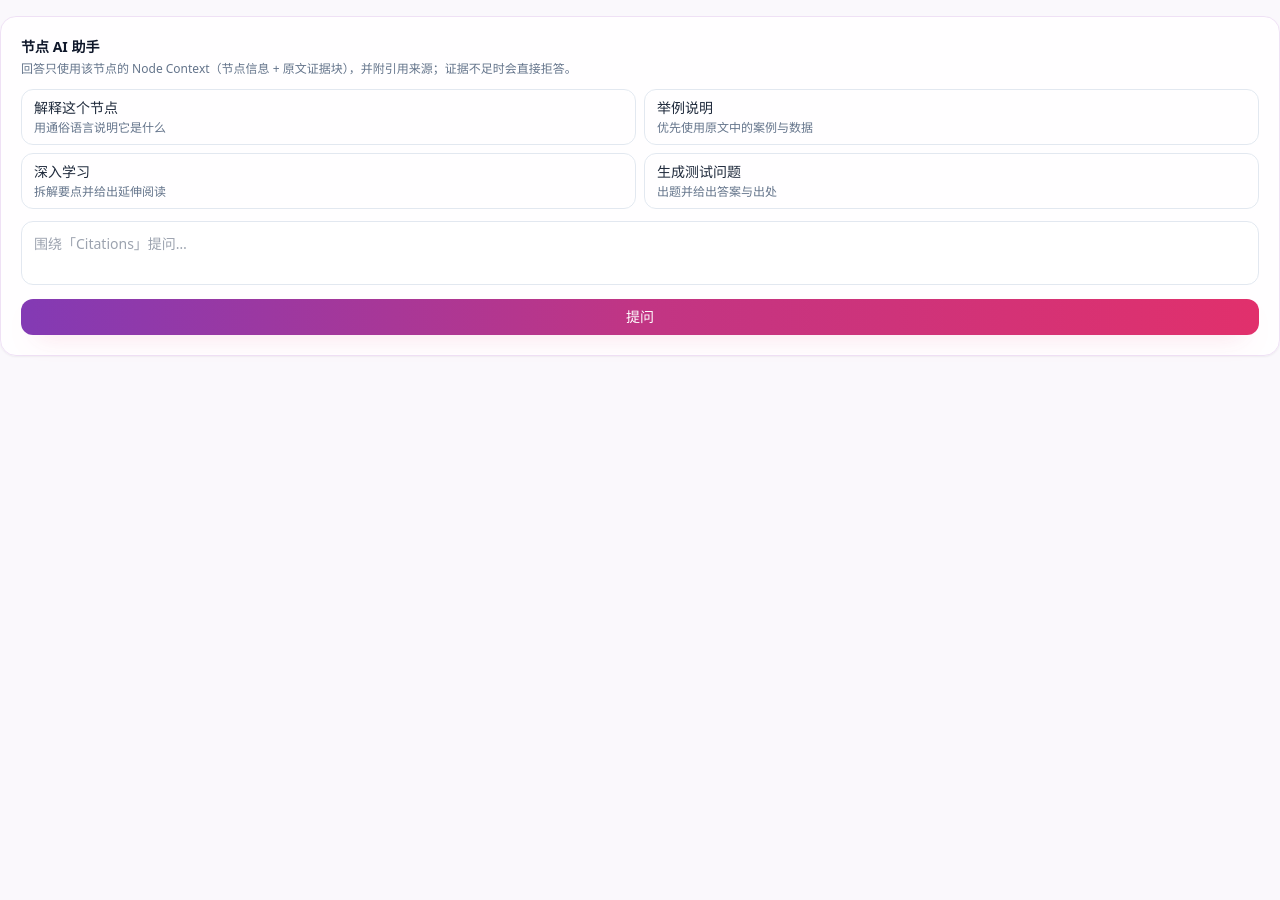
Scenario: KnowledgeNodeQa (Node AI Assistant) › renders generated quiz questions with their own citations
Click the button "生成测试问题 出题并给出答案与出处" at (699, 172), box 644,153 -> 1259,209
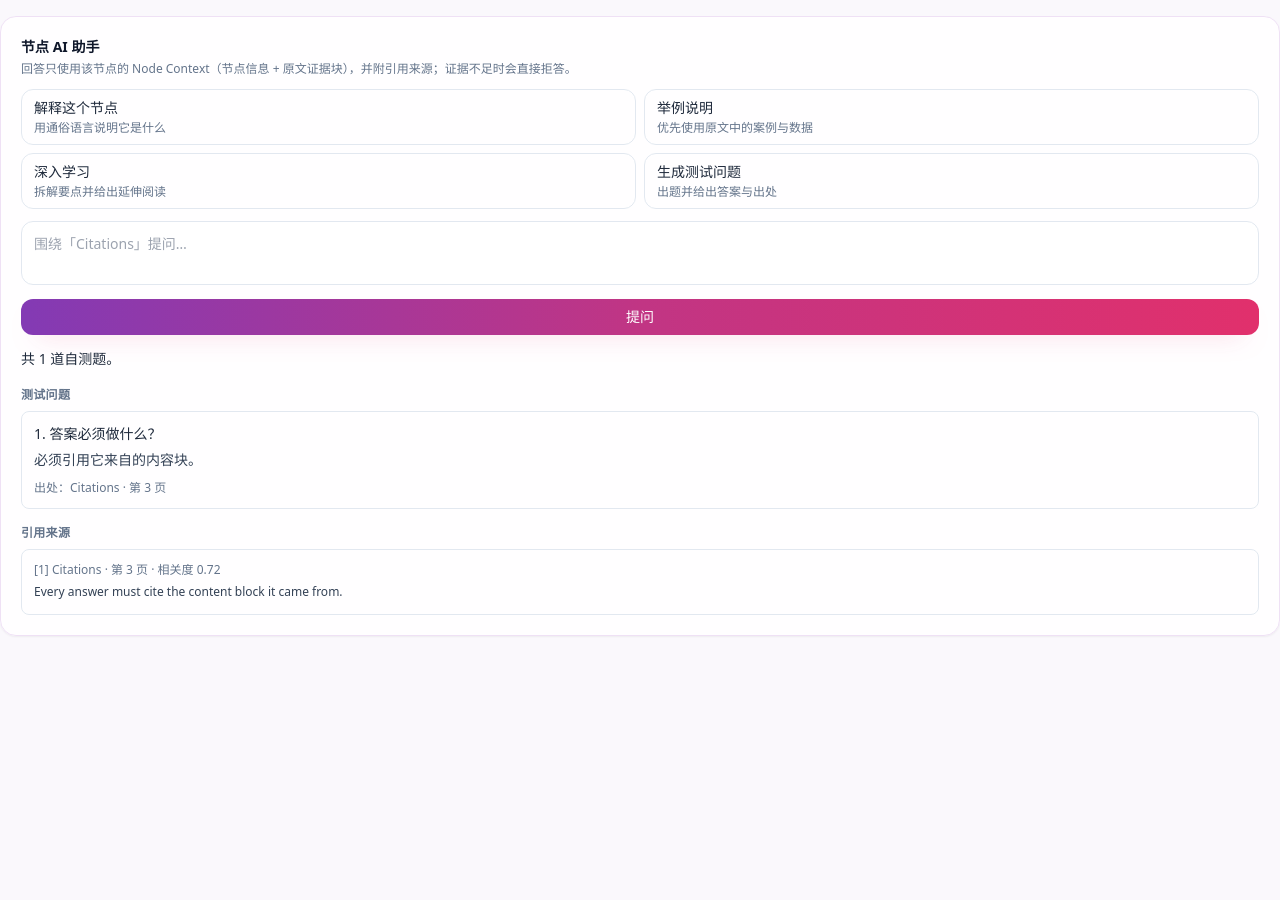
expect the text "1. 答案必须做什么？" is shown: met, box 34,424 -> 161,443
expect the text "必须引用它来自的内容块。" is shown: met, box 34,450 -> 202,469
expect the list item "出处：Citations · 第 3 页" is shown: met, box 34,479 -> 166,496
